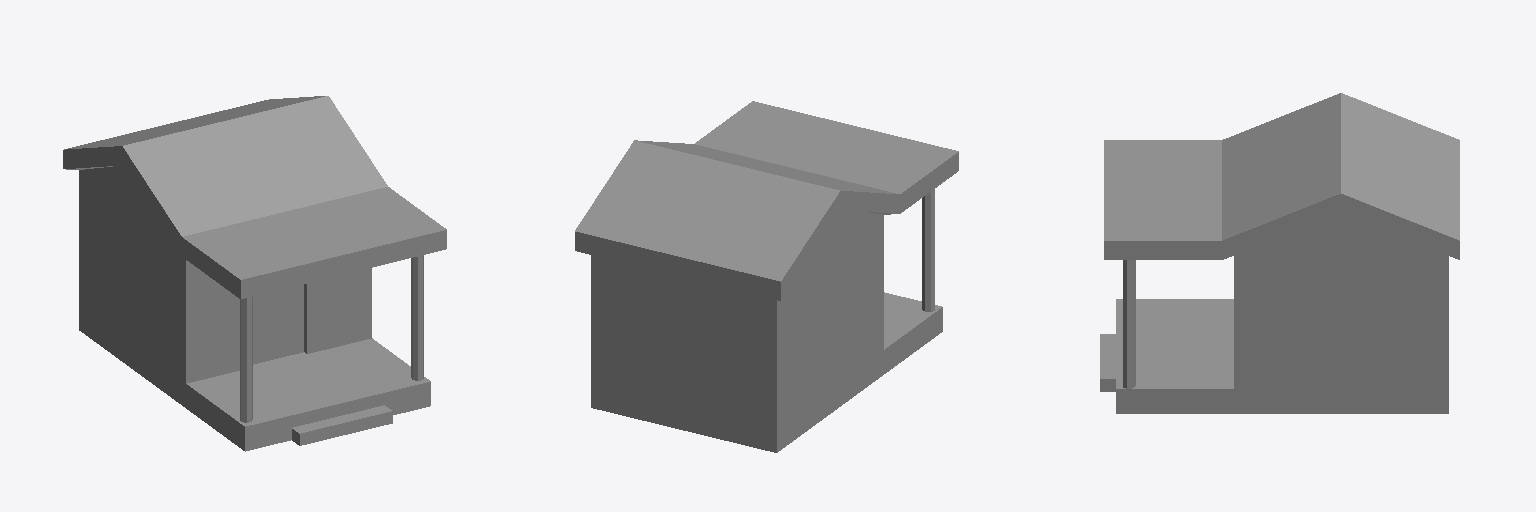
The model's file is SimpleHouse2.obj.
3 renders of one model, left to right at view 1: azimuth 30°, elevation 25°; view 2: azimuth 150°, elevation 25°; view 3: azimuth 270°, elevation 25°, orthographic.
Parts seen in each view (by area): view 1: SimpleHouse_Cylinder.001; view 2: SimpleHouse_Cylinder.001; view 3: SimpleHouse_Cylinder.001.
Boxes of the visible parts, x1=… form: SimpleHouse_Cylinder.001: x1=63, y1=96, x2=446, y2=451; SimpleHouse_Cylinder.001: x1=575, y1=101, x2=958, y2=452; SimpleHouse_Cylinder.001: x1=1100, y1=93, x2=1459, y2=413.
Size of the model in its own units: 2.22 by 2.32 by 3.35.